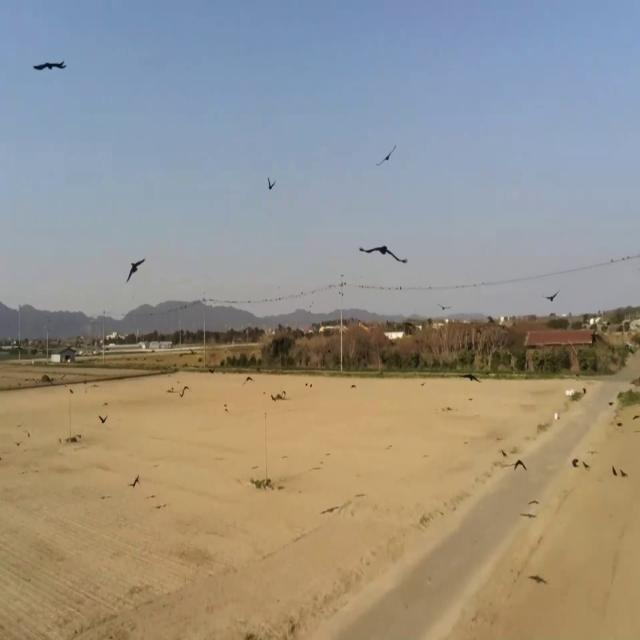bird: (359, 235, 402, 274), (34, 52, 66, 83), (126, 249, 145, 288), (378, 140, 394, 174), (513, 452, 526, 479), (544, 284, 558, 308), (98, 408, 108, 430), (268, 173, 276, 196), (571, 452, 579, 473), (340, 279, 345, 293)
